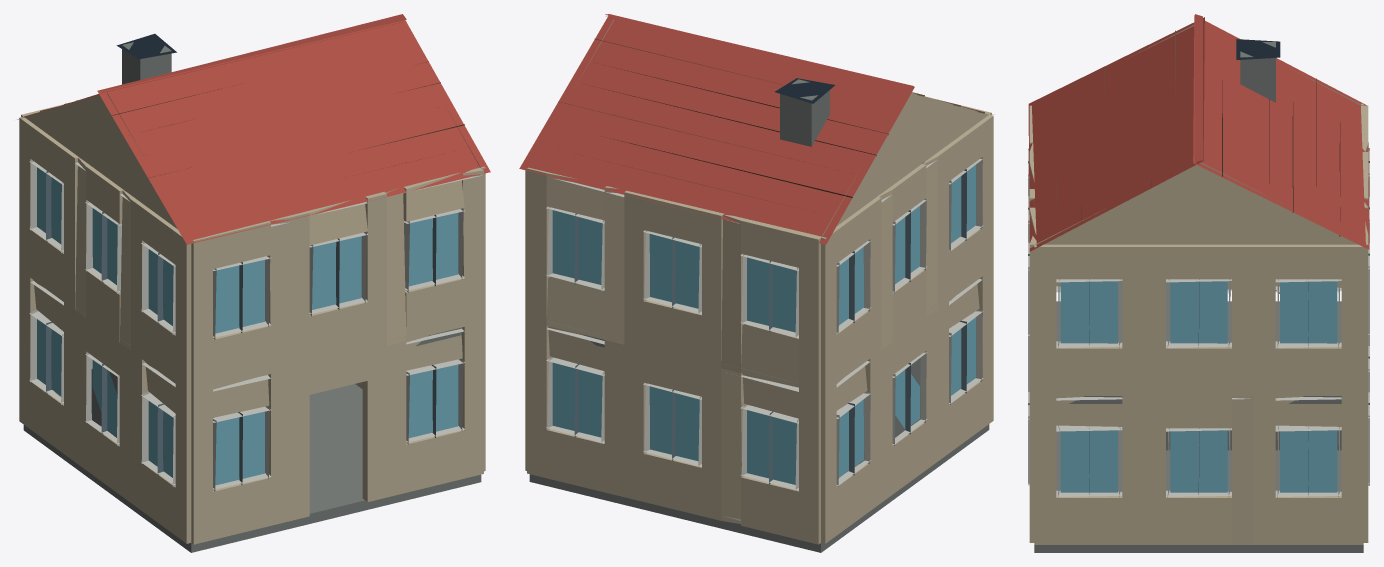
File: architecture-townhouse.lod1.glb
3 renders of one model, left to right at view 1: azimuth 30°, elevation 25°; view 2: azimuth 150°, elevation 25°; view 3: azimuth 270°, elevation 25°, orthographic. The views are drawn at different scales.
Visible parts, largest first — view 1: architecture-townhouse__body; view 2: architecture-townhouse__body; view 3: architecture-townhouse__body.
Boxes of the visible parts, x1=… form: architecture-townhouse__body: x1=17, y1=14, x2=490, y2=552; architecture-townhouse__body: x1=519, y1=14, x2=993, y2=552; architecture-townhouse__body: x1=1028, y1=14, x2=1369, y2=552.
Size of the model in its own units: 6.31 by 8.02 by 6.23.
